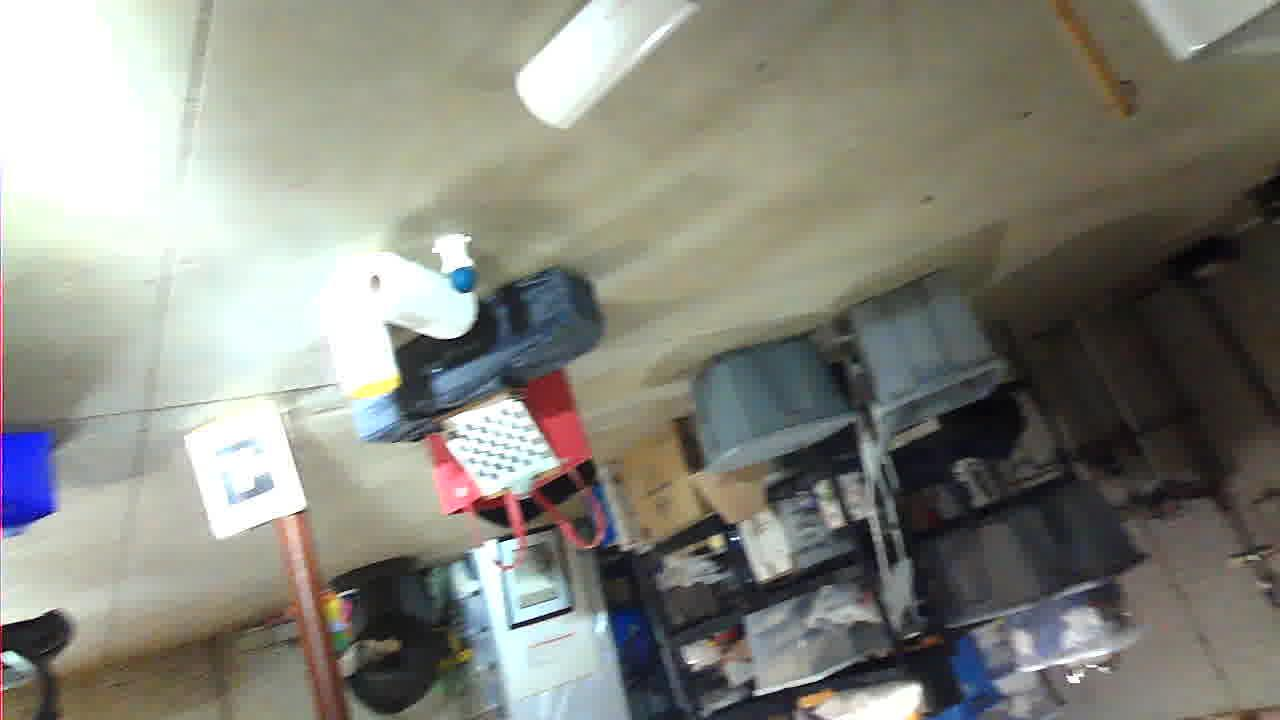coral: (580, 590, 765, 720)
